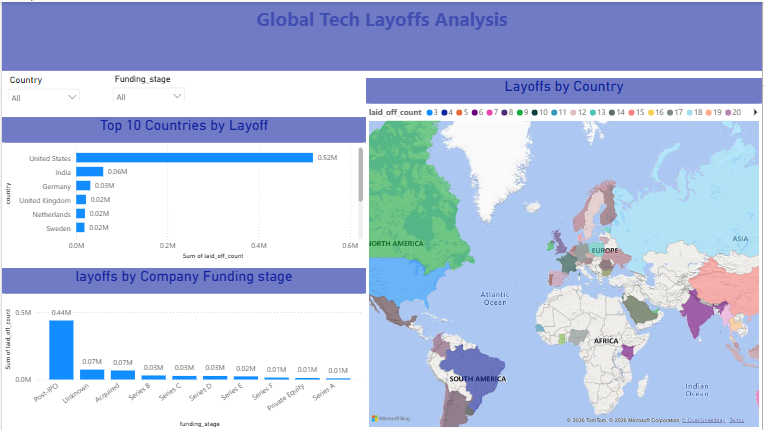

Layout of this report page (visuals, bound fields, positions):
{"tool":"powerbi","page":{"name":"Geographic & Funding Analysis","canvas":[1280,720],"ordinal":2},"visuals":[{"type":"textbox","box":[0,0,1280,115.9],"z":0},{"type":"slicer","fields":{"Values":["layoffs_events.country"]},"box":[0,115.9,141.1,50.4],"z":1},{"type":"slicer","fields":{"Values":["layoffs_events.funding_stage"]},"box":[176.4,115.9,141.1,52.1],"z":2},{"type":"filledMap","title":"Layoffs by Country","fields":{"Category":["layoffs_events.country"],"Series":["layoffs_events.laid_off_count"]},"box":[613.1,128,666.9,592.8],"z":3},{"type":"clusteredBarChart","title":"Top 10 Countries by Layoff","fields":{"Category":["layoffs_events.country"],"Y":["Sum(layoffs_events.laid_off_count)"]},"box":[0,193.7,613.1,244.2],"z":4},{"type":"clusteredColumnChart","title":"layoffs by Company Funding stage","fields":{"Category":["layoffs_events.funding_stage"],"Y":["Sum(layoffs_events.laid_off_count)"]},"box":[0,448,613.1,272.8],"z":5}]}

Visuals, with their boxes in screenshot pixels (x1, y1, x2, y2), scaled from the page's 1280x720 canvas onto the 764x430 screenshot:
textbox: 0/0/763/69
slicer - layoffs_events.country: 0/69/84/99
slicer - layoffs_events.funding_stage: 105/69/190/100
"Layoffs by Country" filledMap: 366/76/763/429
"Top 10 Countries by Layoff" clusteredBarChart: 0/116/366/262
"layoffs by Company Funding stage" clusteredColumnChart: 0/268/366/429
